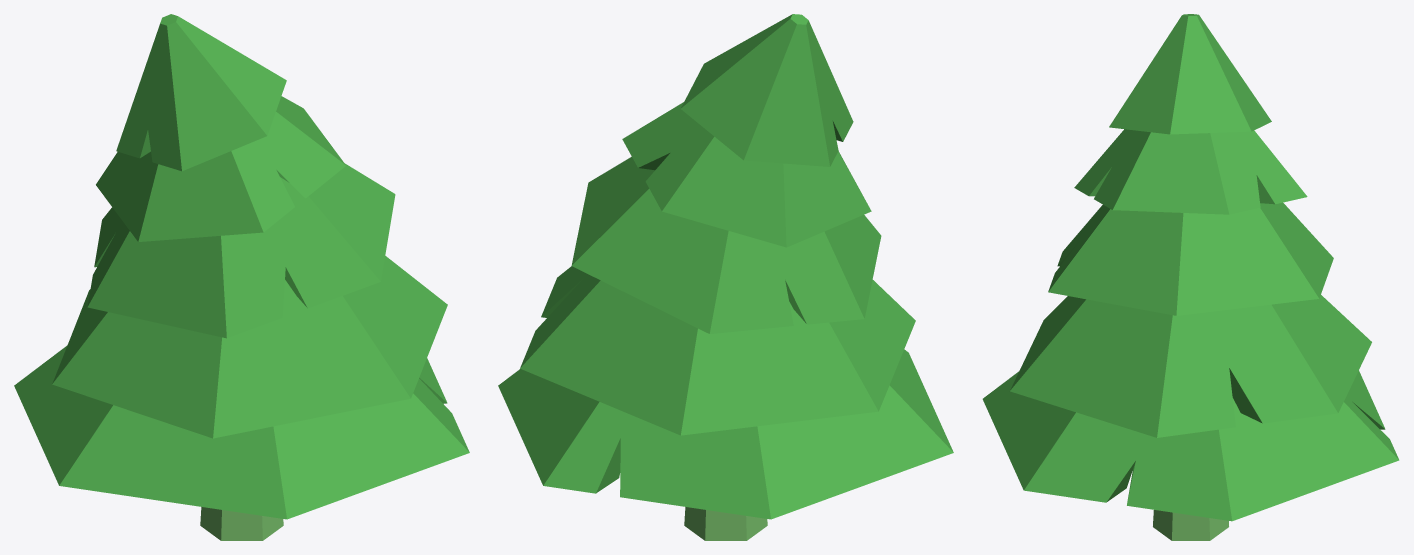
File: pine2.fbx
3 renders of one model, left to right at view 1: azimuth 30°, elevation 25°; view 2: azimuth 150°, elevation 25°; view 3: azimuth 270°, elevation 25°, orthographic. The views are drawn at different scales.
Parts seen in each view (by area): view 1: pine 2; view 2: pine 2; view 3: pine 2.
Part boxes in pixels (x1,y1,x2,y2): pine 2: [14, 14, 469, 540]; pine 2: [498, 14, 953, 540]; pine 2: [982, 14, 1399, 540].
Size of the model in its own units: 1223 by 1498 by 1175.
